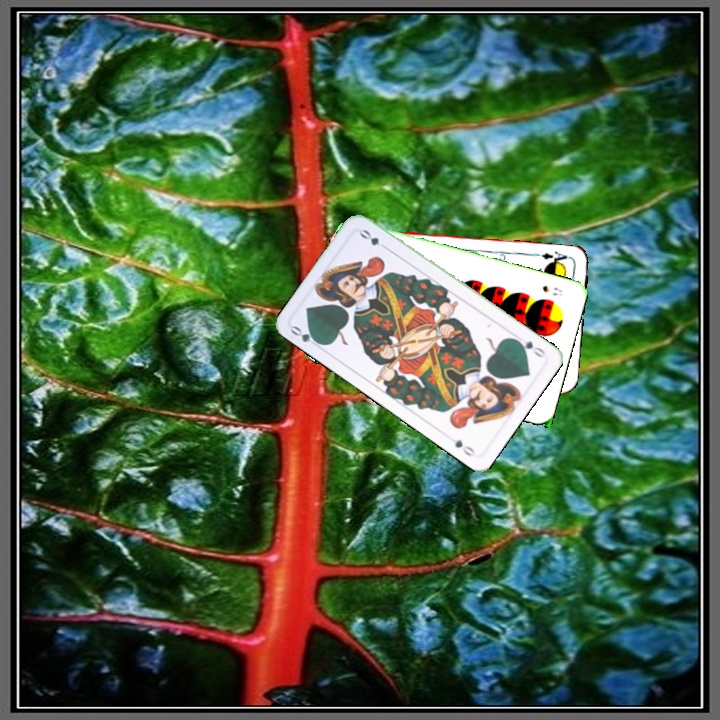EA: (537, 247, 573, 268)
GO: (286, 322, 325, 351), (511, 335, 548, 360)
S8: (538, 281, 565, 299)
